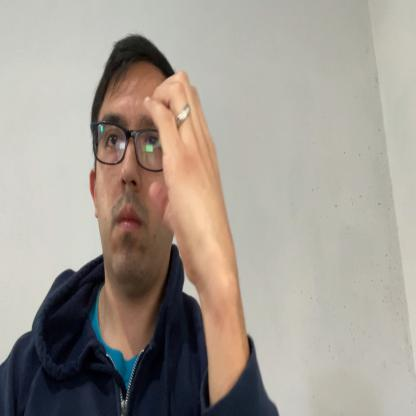C: (144, 69, 218, 273)
